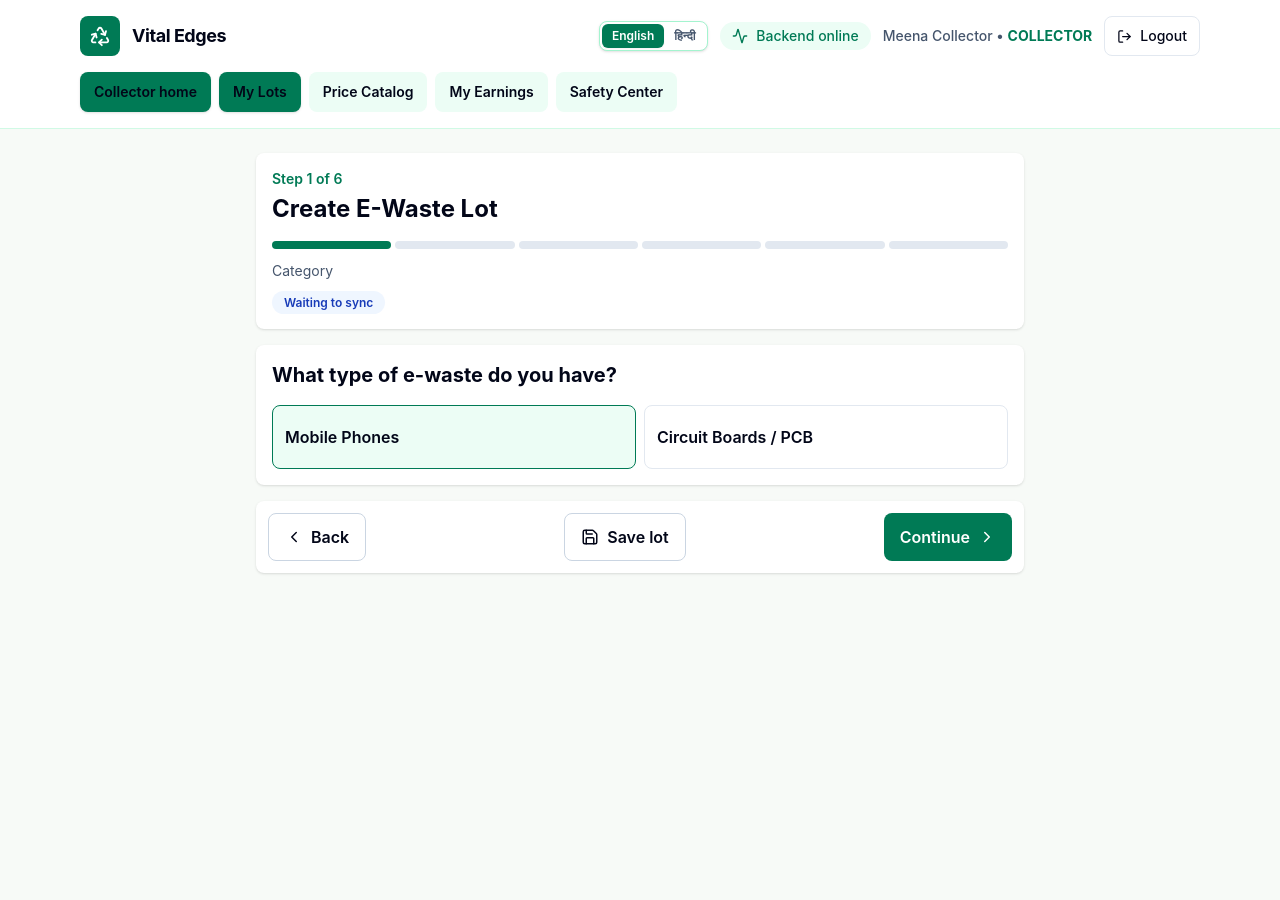
Test case: Phase 2 collector drafts › complete local draft can submit as CAPTURED
Click the button "Continue".
click(948, 537)  # box [884,513,1012,561]
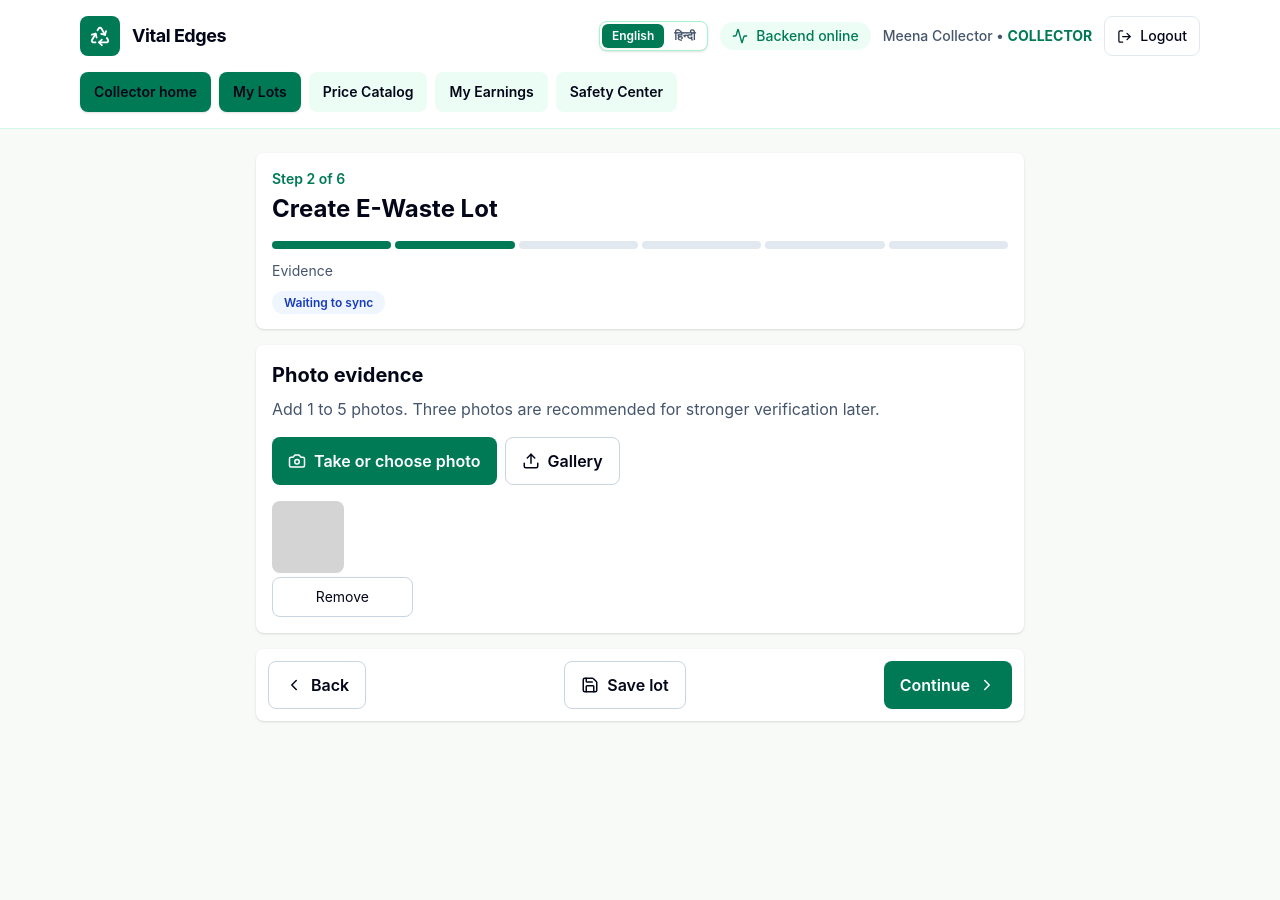
Click the button "Continue".
click(948, 685)  # box [884,661,1012,709]
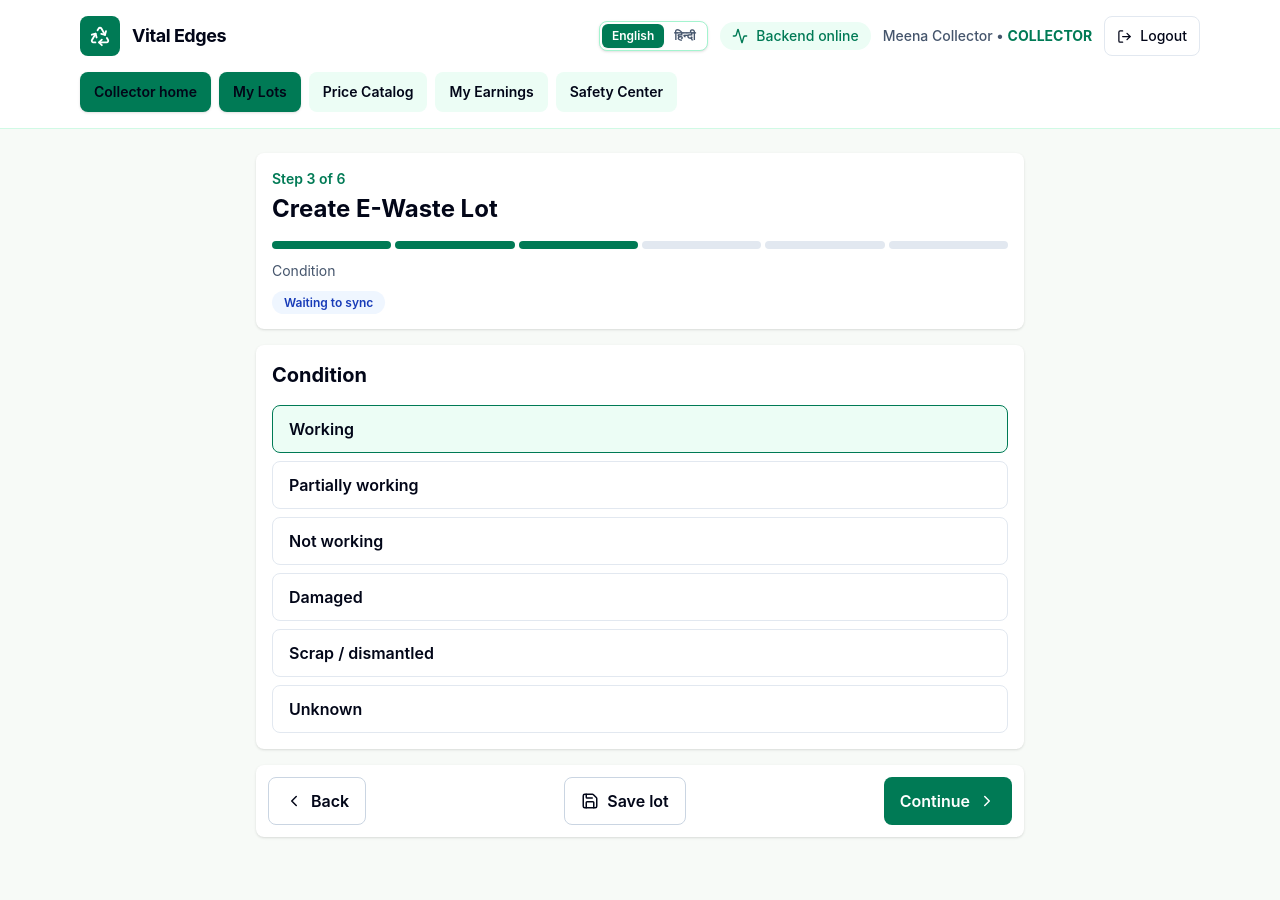
Click the button "Continue".
click(948, 801)  # box [884,777,1012,825]
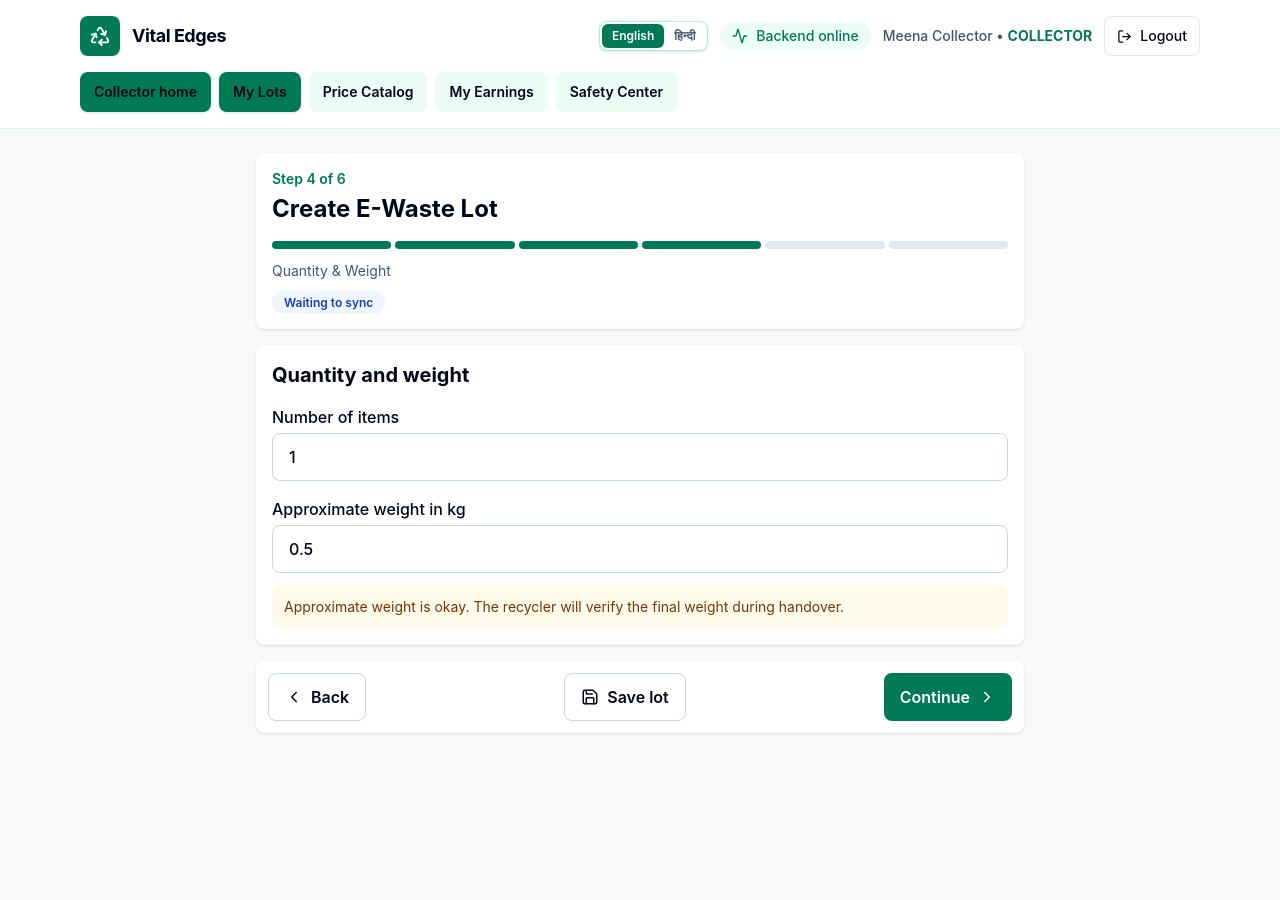
Click the button "Continue".
click(948, 697)  # box [884,673,1012,721]
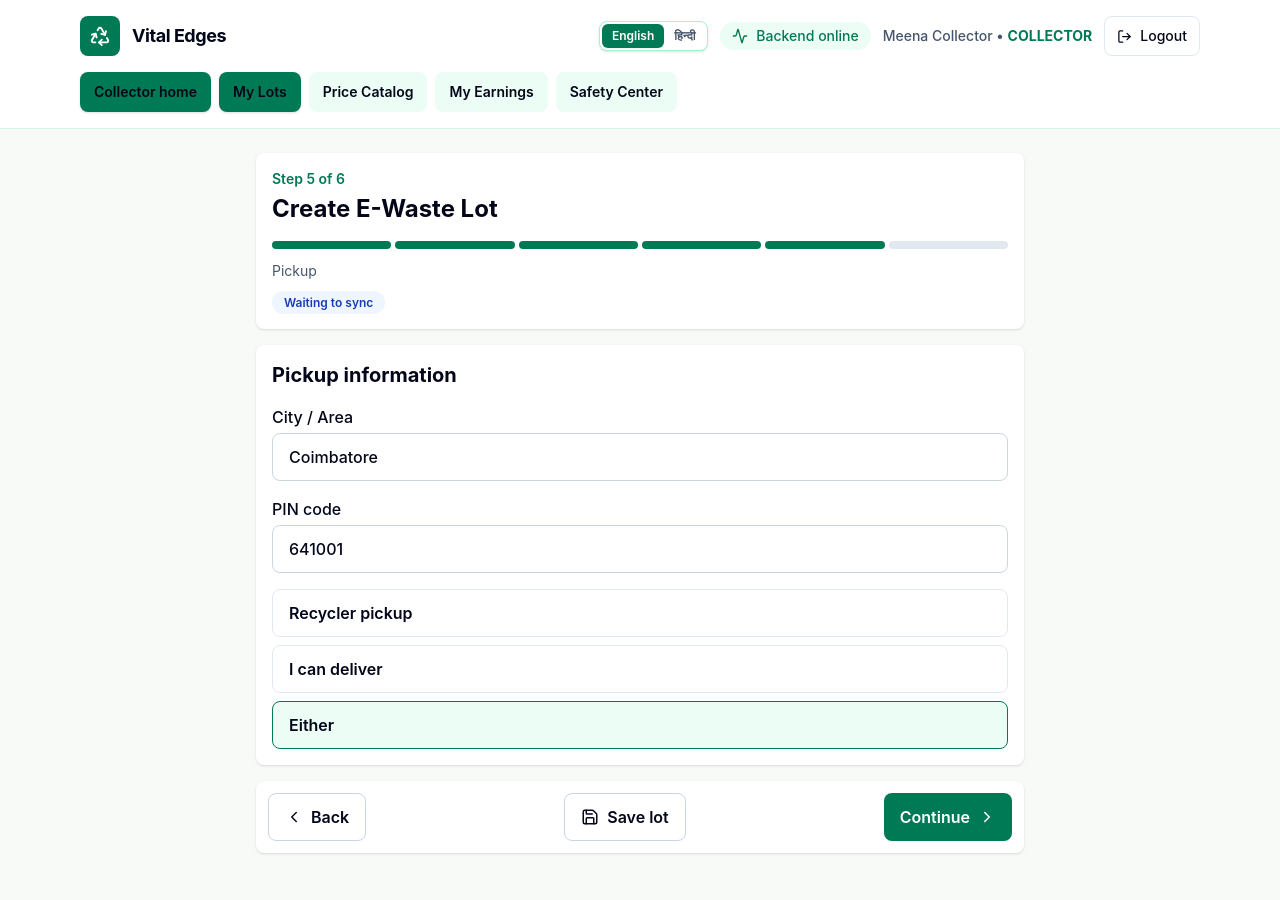
Click the button "Continue".
click(948, 817)  # box [884,793,1012,841]
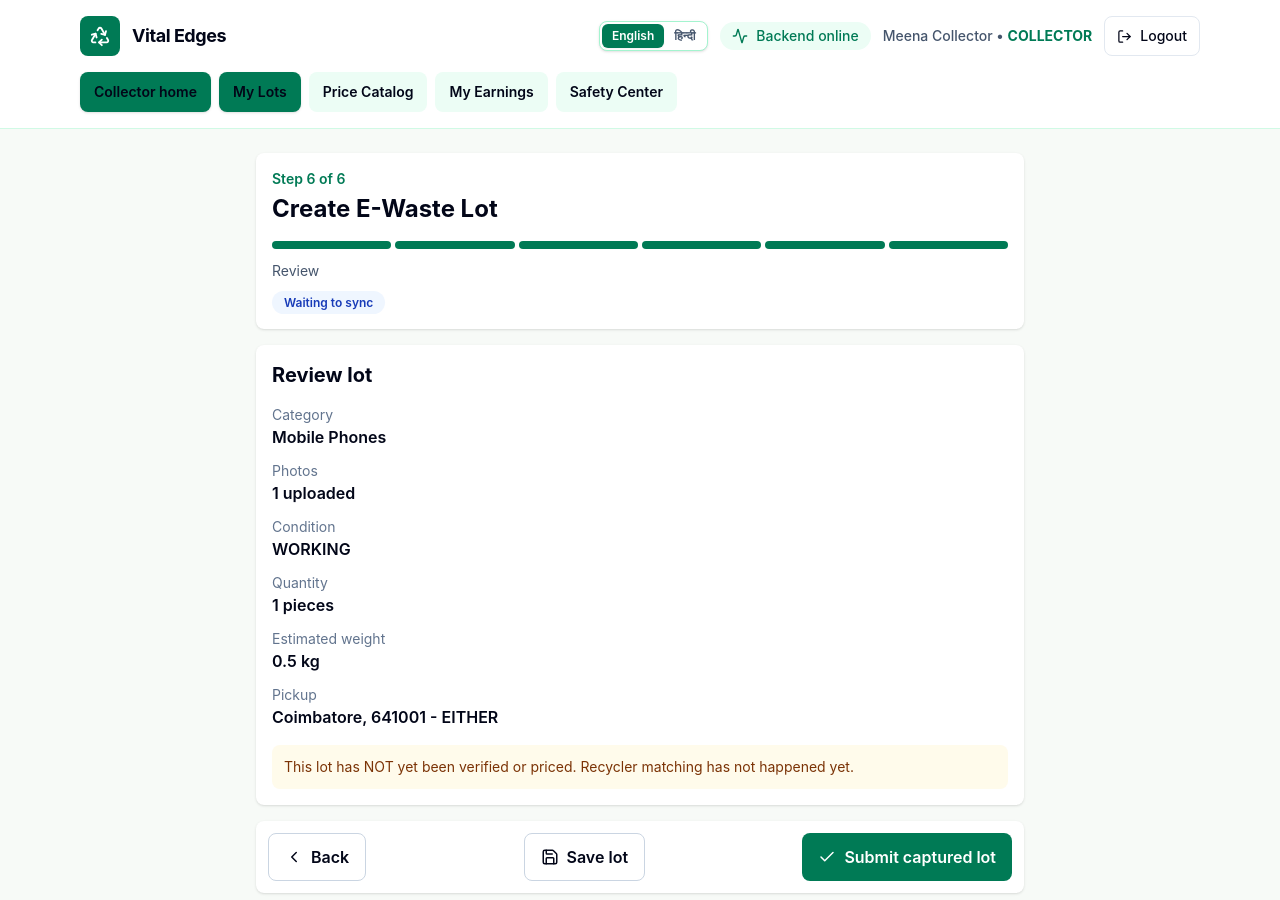
Click the button "Submit captured lot".
click(907, 857)  # box [802,833,1012,881]
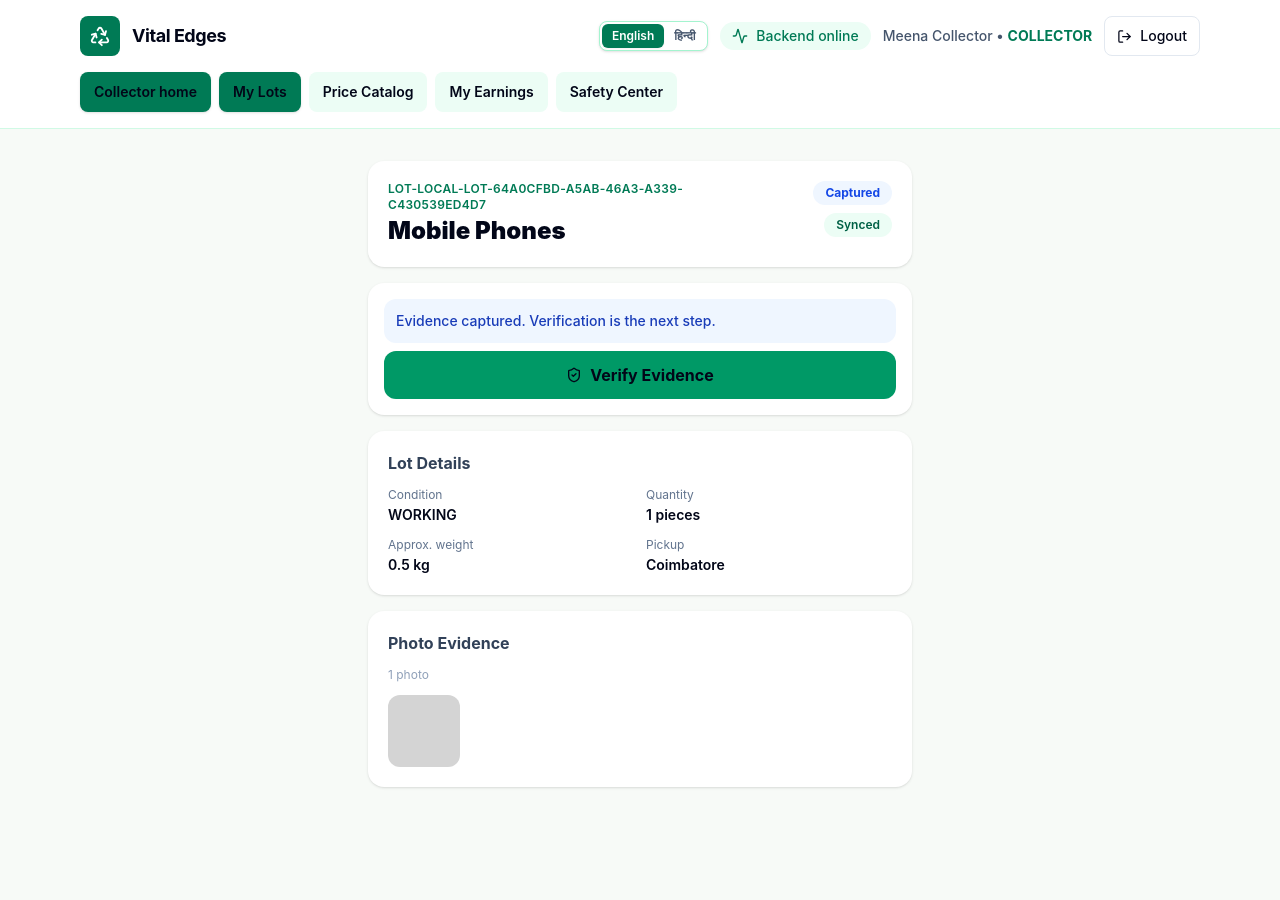
Now the text "Evidence captured. Verification is the next step." is shown, box [384,299,896,343]
